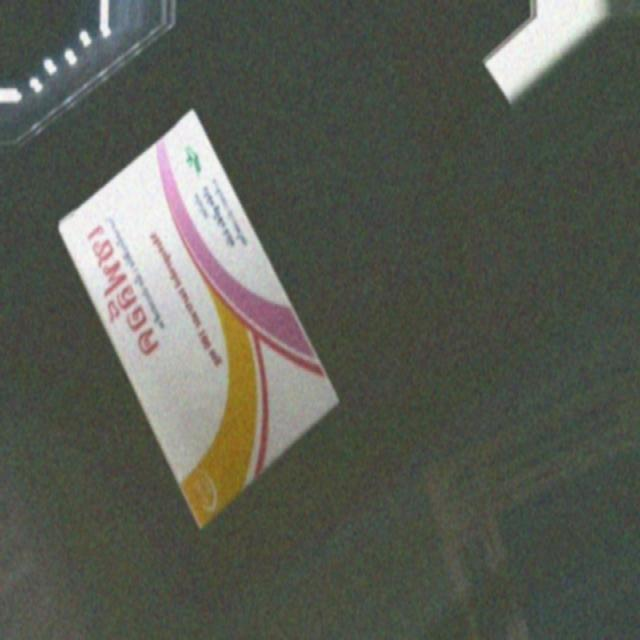sefloc: (56, 112, 340, 527)
